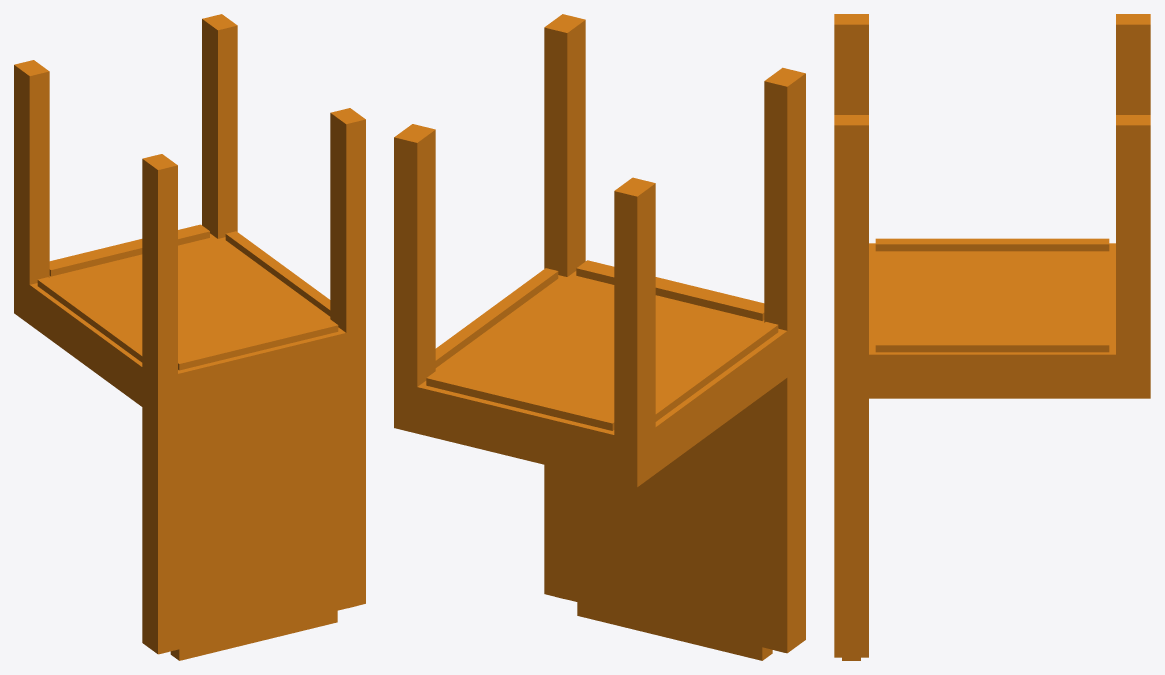
Rendered from chair.fbx.
3 views of the same model, side by side, from view 1: azimuth 30°, elevation 25°; view 2: azimuth 150°, elevation 25°; view 3: azimuth 270°, elevation 25° (orthographic). The views are drawn at different scales.
Parts seen in each view (by area): view 1: Cube; view 2: Cube; view 3: Cube.
Boxes of the visible parts, x1,y1,x2,y2 form: Cube: (14,14,365,660); Cube: (394,14,805,660); Cube: (834,14,1150,660).
Size of the model in its own units: 121 by 277 by 145.
